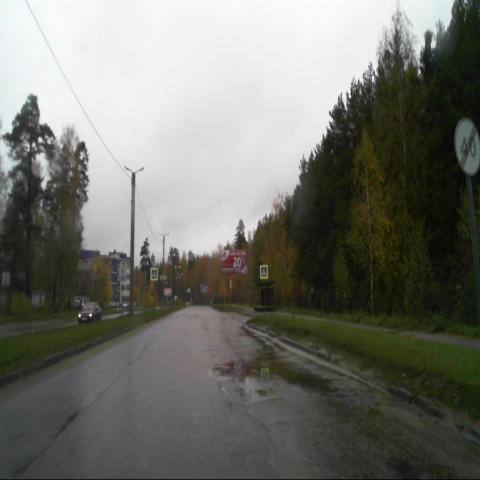3_25: (454, 119, 480, 174)
